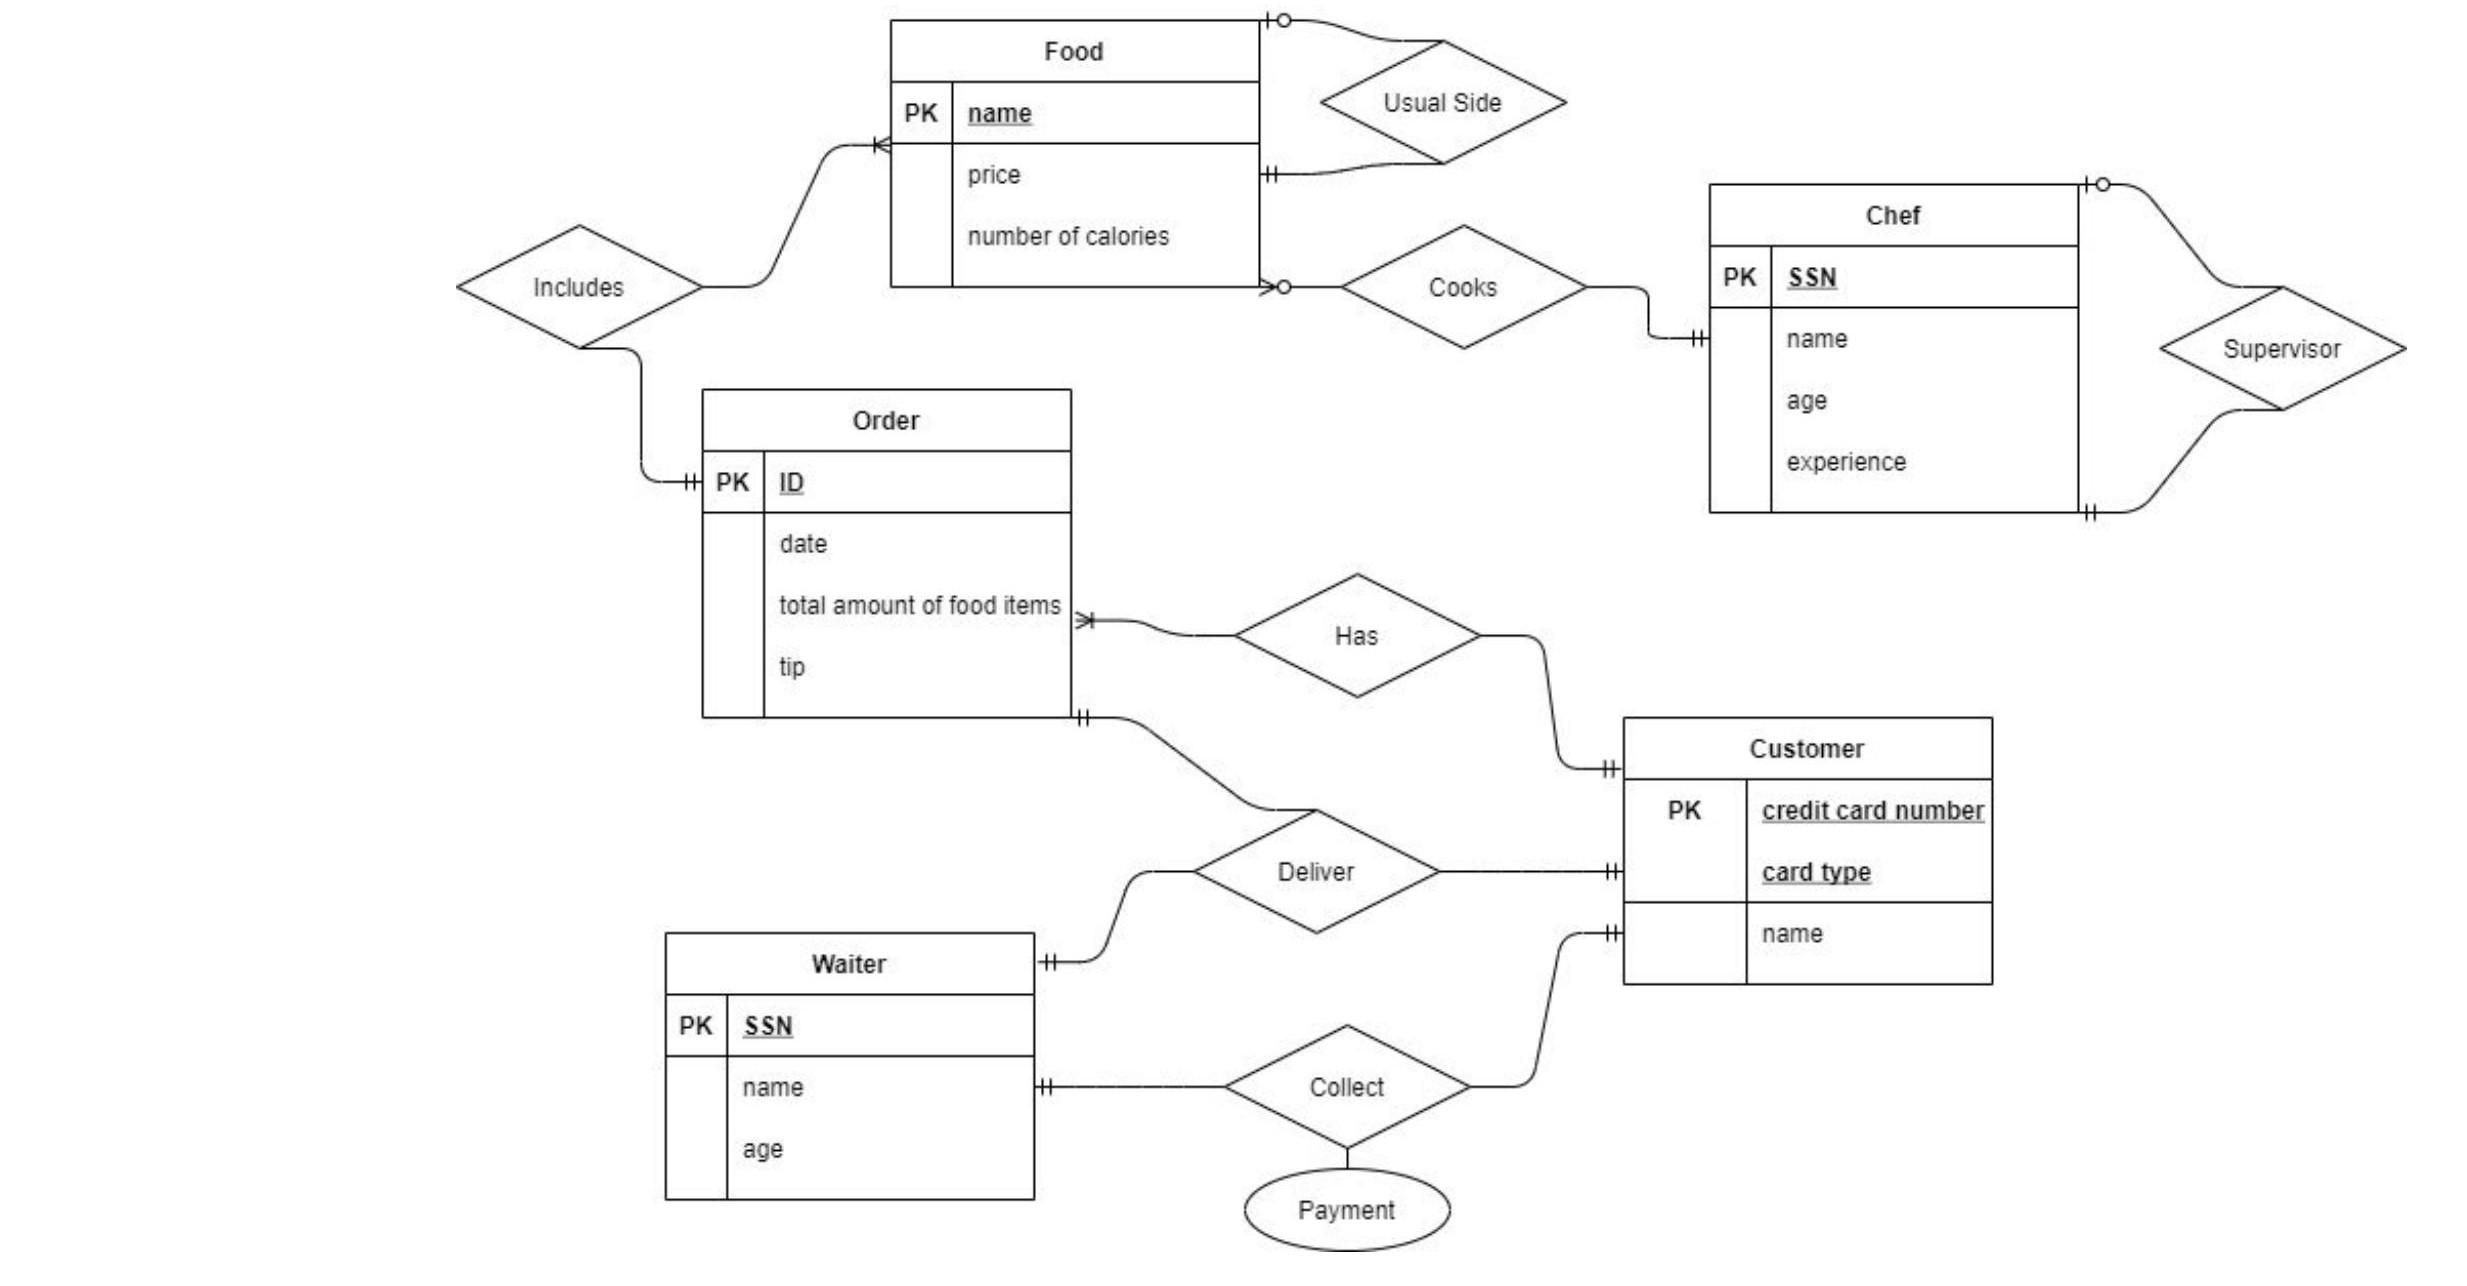Attribute: (1240, 1165, 1464, 1260)
Entity: (674, 374, 1095, 746), (1694, 168, 2106, 545), (636, 917, 1061, 1221), (1606, 700, 2012, 1013), (870, 8, 1291, 308)
Relationship: (1335, 214, 1602, 361), (1211, 1013, 1483, 1154), (1180, 796, 1451, 937), (445, 217, 706, 361), (2157, 271, 2408, 419), (1230, 563, 1490, 703), (1313, 24, 1571, 163)
